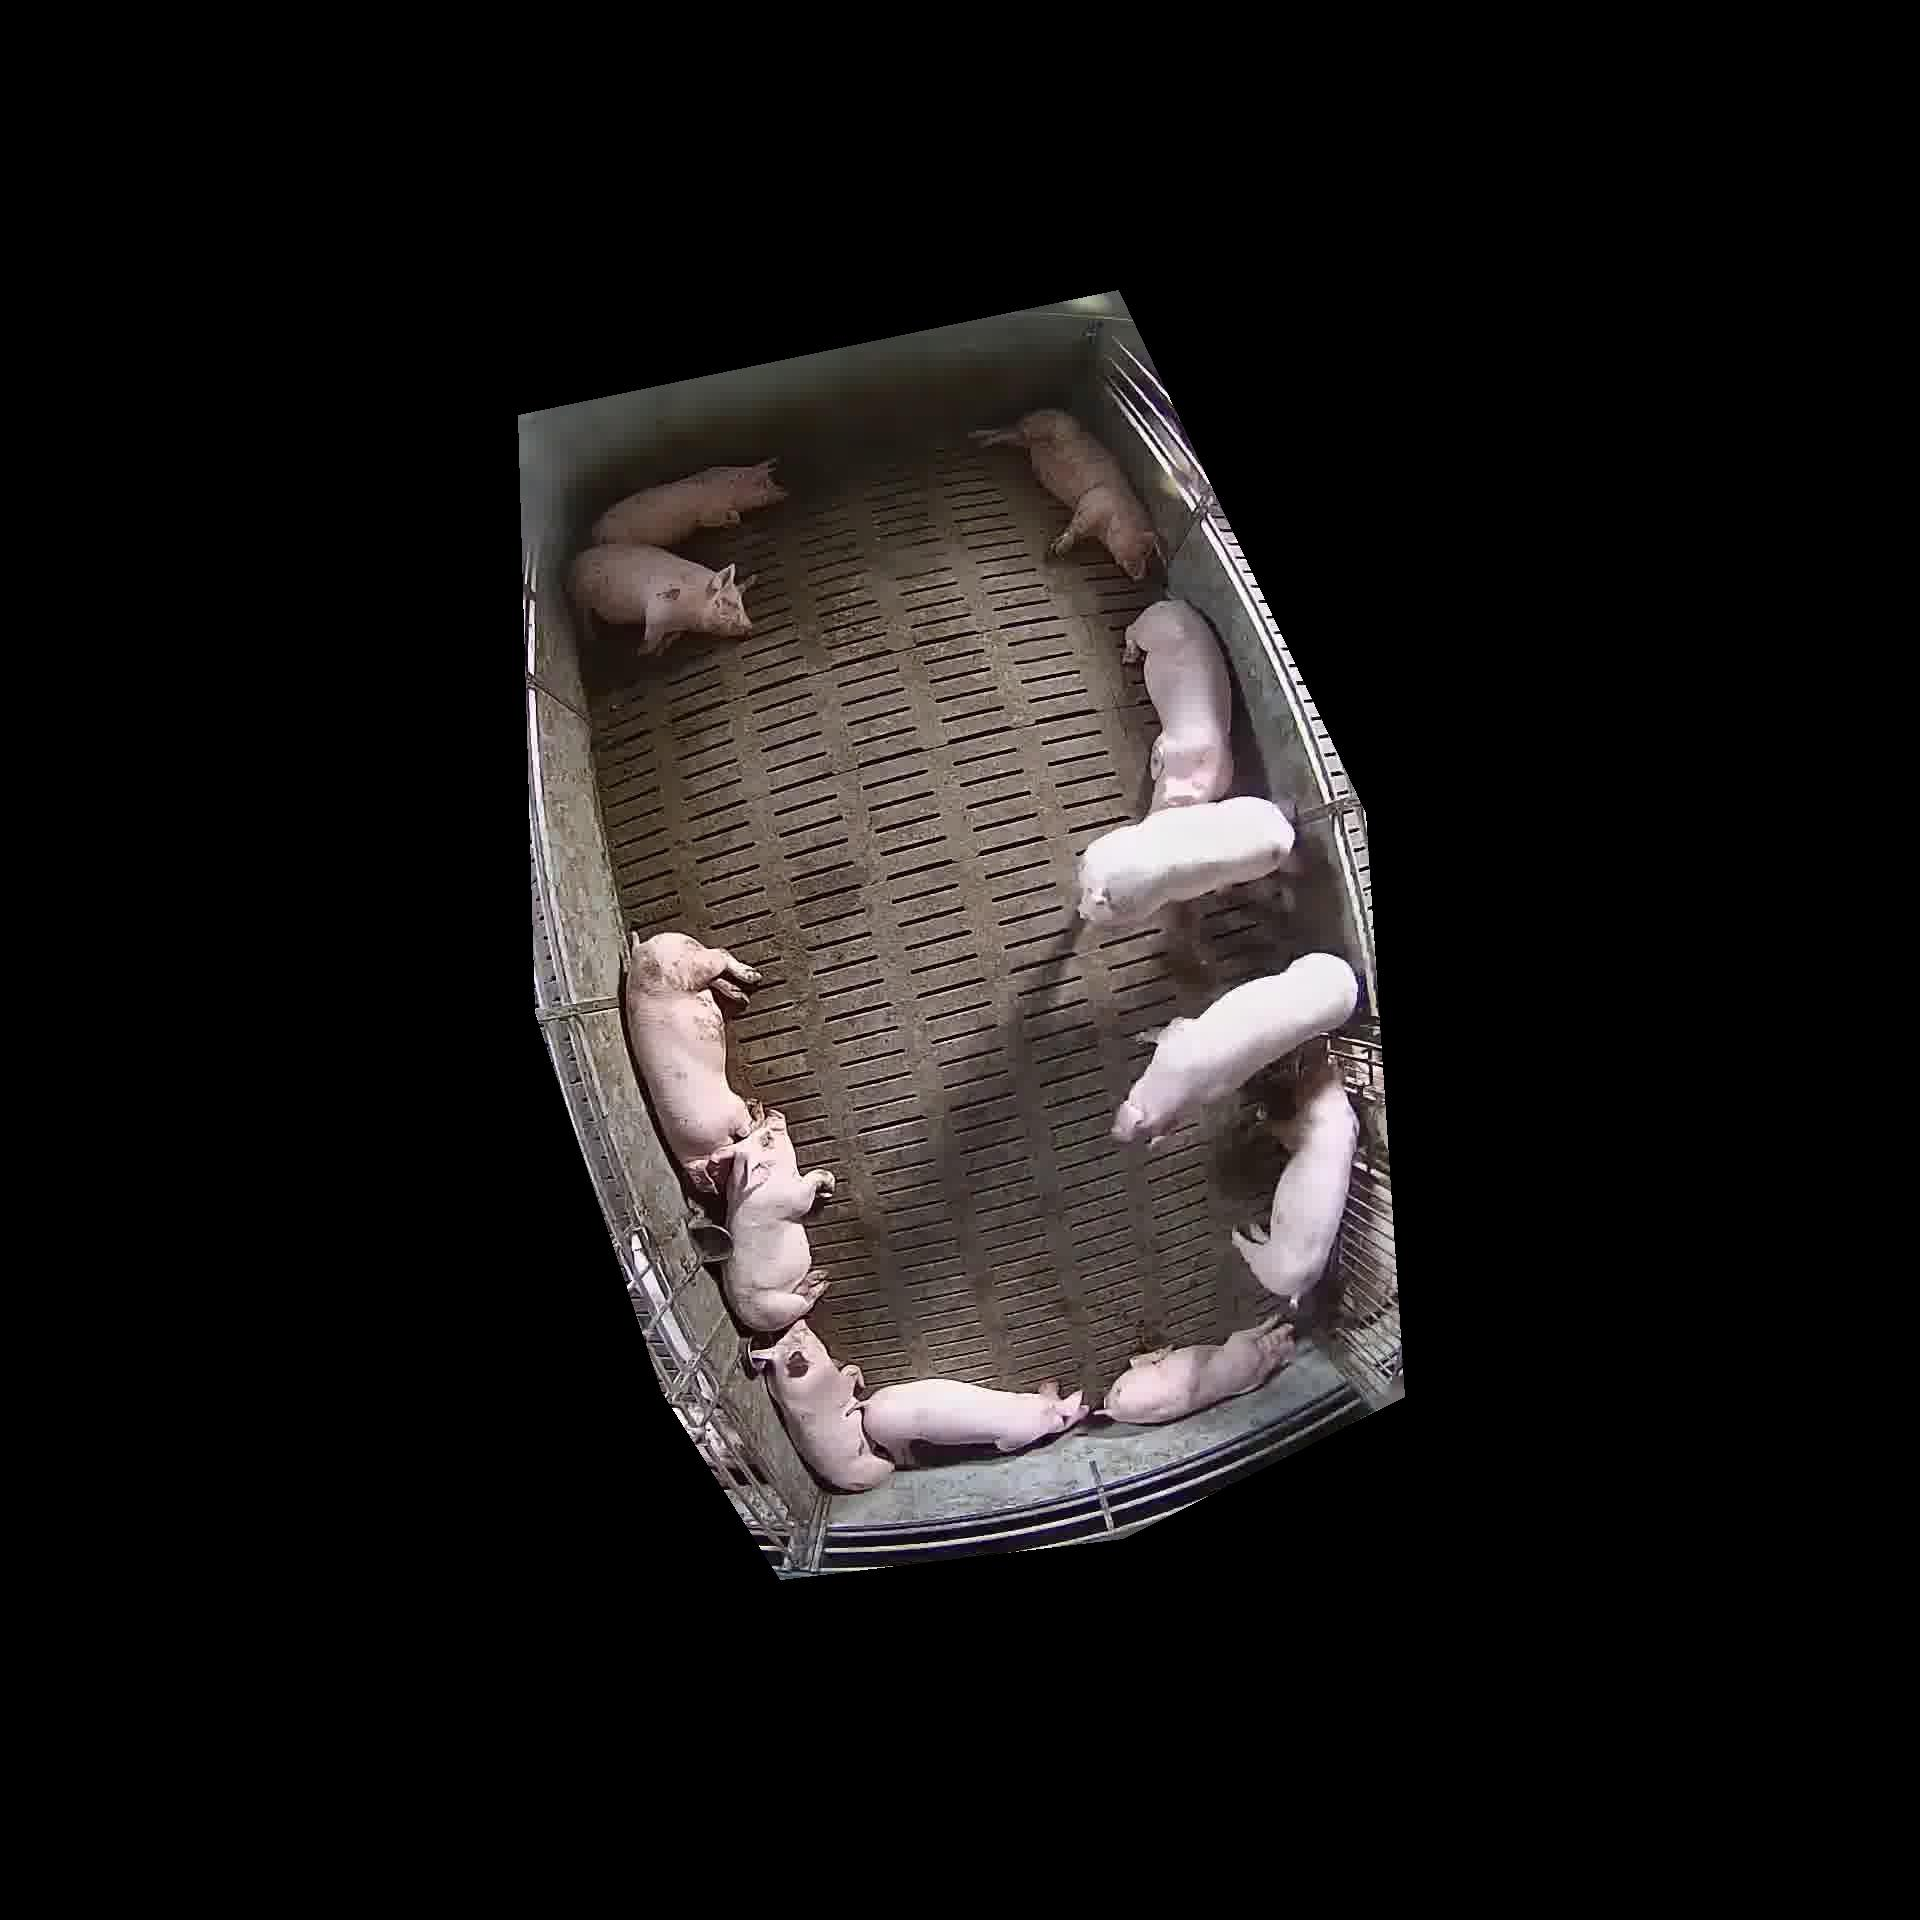pig: (1113, 955, 1357, 1141), (624, 932, 760, 1192), (971, 410, 1159, 578), (1233, 1050, 1357, 1303), (1078, 796, 1294, 927), (723, 1111, 833, 1333), (751, 1320, 893, 1491), (1124, 600, 1233, 811), (1102, 1317, 1296, 1422), (570, 543, 751, 654), (863, 1378, 1088, 1465), (593, 461, 784, 547)
